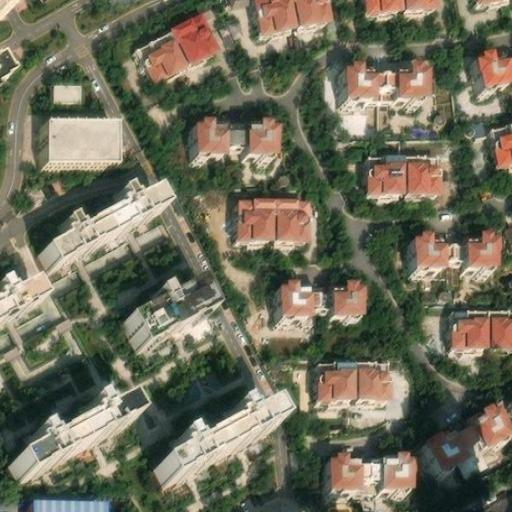building: (38, 182, 158, 265), (8, 395, 124, 478), (152, 404, 271, 482), (128, 278, 212, 339), (331, 444, 415, 482), (170, 3, 226, 59), (40, 117, 112, 160), (136, 23, 191, 79), (416, 223, 498, 258), (386, 51, 435, 90), (197, 108, 240, 146), (0, 275, 38, 317), (317, 355, 357, 394), (237, 193, 276, 233), (347, 52, 387, 91), (239, 109, 280, 147), (450, 305, 490, 341), (366, 150, 407, 185), (322, 272, 363, 307), (276, 193, 311, 233), (357, 355, 393, 393), (283, 272, 322, 307), (478, 40, 512, 80), (407, 149, 441, 185), (26, 498, 106, 512), (488, 124, 512, 169), (490, 305, 512, 341), (296, 0, 334, 18), (51, 78, 81, 99), (0, 47, 16, 81)
